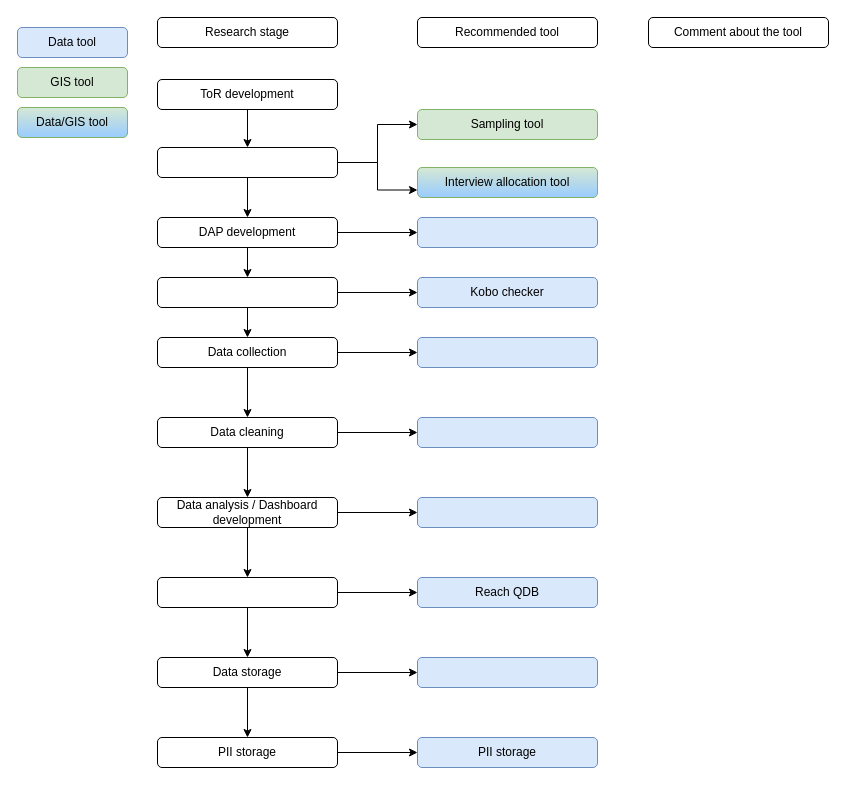
Some shapes in this 846 by 785 pixel diagram are drawn without their labels. The shapes that lost their labels are listed below. From the top down, each one's centre as x and y in pixels, then its label:
At point (247, 162): "Development of the sampling frame".
At point (507, 232): "DAP to Kobo transformer".
At point (247, 292): "Kobo development".
At point (507, 352): "Universal data collection tracker".
At point (507, 432): "Cleaning template".
At point (507, 512): "Tabular analysis V4".
At point (247, 592): "Questionnaire storage".
At point (507, 672): "Data uploader".
